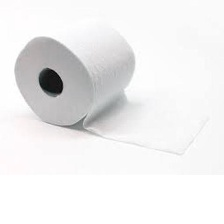tissue: (8, 13, 214, 160)
